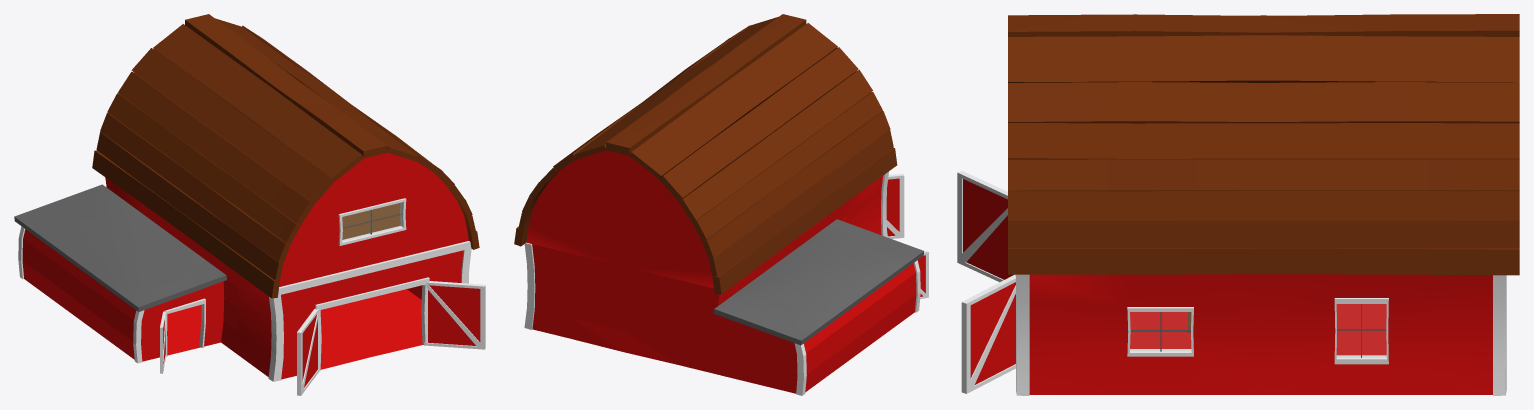
Rendered from Grange (1).FBX.
3 views of the same model, side by side, from view 1: azimuth 30°, elevation 25°; view 2: azimuth 150°, elevation 25°; view 3: azimuth 270°, elevation 25° (orthographic). The views are drawn at different scales.
Parts seen in each view (by area): view 1: Grange; view 2: Grange; view 3: Grange.
Boxes of the visible parts, x1,y1,x2,y2 form: Grange: (14, 14, 485, 395); Grange: (514, 14, 928, 395); Grange: (957, 14, 1519, 395).
Size of the model in its own units: 1021 by 722 by 1200.
